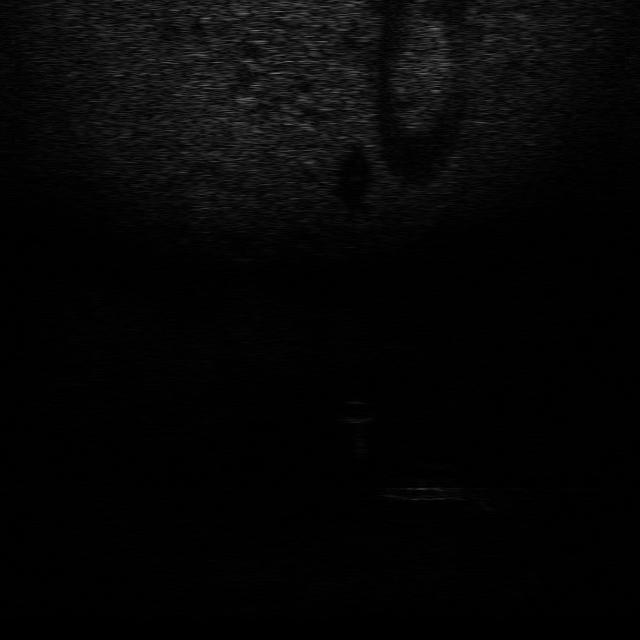ball: (328, 395, 378, 427)
tyre: (374, 477, 468, 504)
